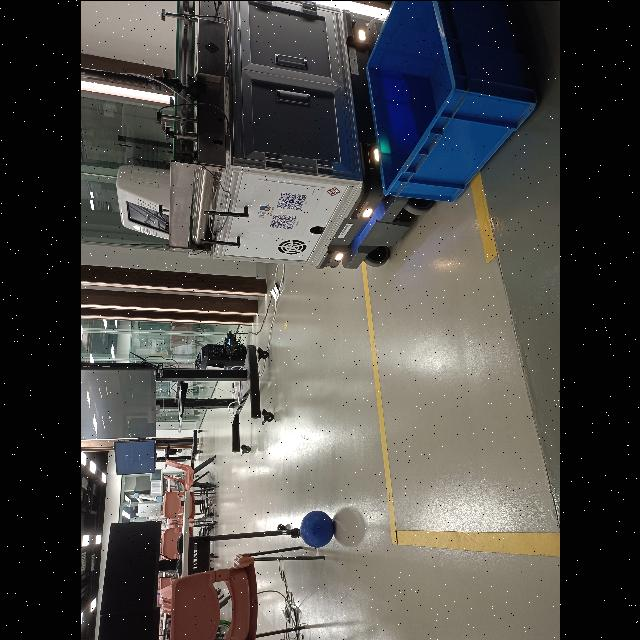B: (300, 510, 334, 546)
